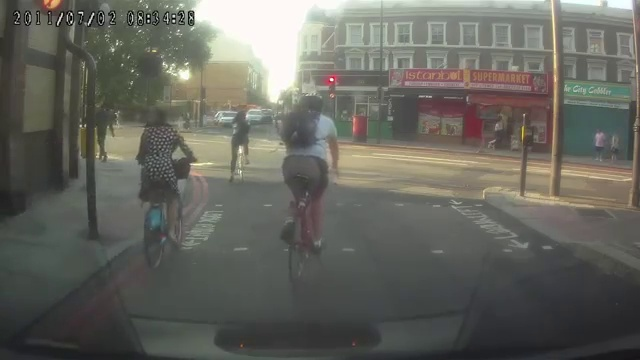cyclist_back: (282, 92, 338, 285), (133, 111, 195, 267), (228, 109, 251, 184)
